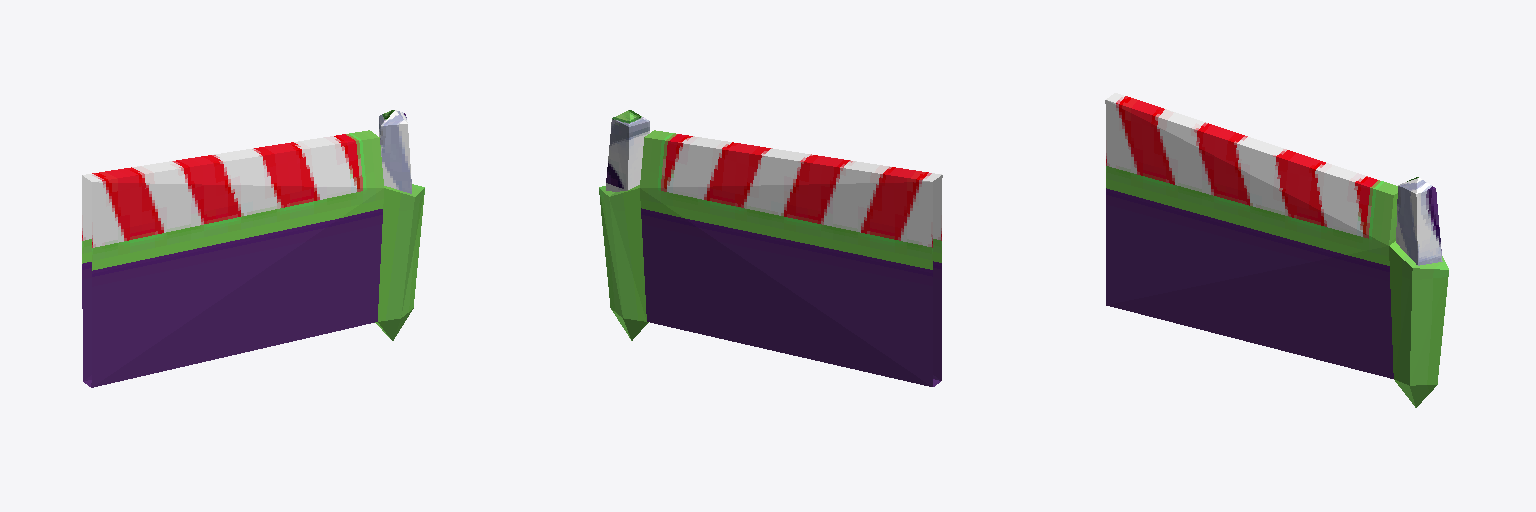
3 renders of one model, left to right at view 1: azimuth 30°, elevation 25°; view 2: azimuth 150°, elevation 25°; view 3: azimuth 330°, elevation 25°, orthographic.
Visible parts, largest first — view 1: buzzlightyLeftWing2_buzzlighty.014; view 2: buzzlightyLeftWing2_buzzlighty.014; view 3: buzzlightyLeftWing2_buzzlighty.014.
Boxes of the visible parts, x1,y1,x2,y2 form: buzzlightyLeftWing2_buzzlighty.014: [82, 110, 424, 387]; buzzlightyLeftWing2_buzzlighty.014: [599, 110, 942, 386]; buzzlightyLeftWing2_buzzlighty.014: [1105, 93, 1448, 407].
Bounding box in the file's own units: 0.25 × 0.1677 × 0.0338.
1 materials, 1 textured.